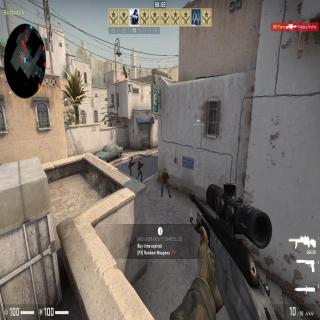T-Body: (160, 166, 170, 198), (136, 156, 144, 181), (128, 155, 134, 177)
T-Head: (164, 168, 167, 172), (139, 156, 141, 161), (131, 156, 133, 160)
